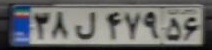character: (73, 9, 98, 41), (51, 9, 71, 41), (103, 9, 123, 40), (123, 9, 141, 41), (143, 9, 160, 42), (164, 15, 184, 42), (33, 10, 49, 42), (184, 15, 201, 43)
